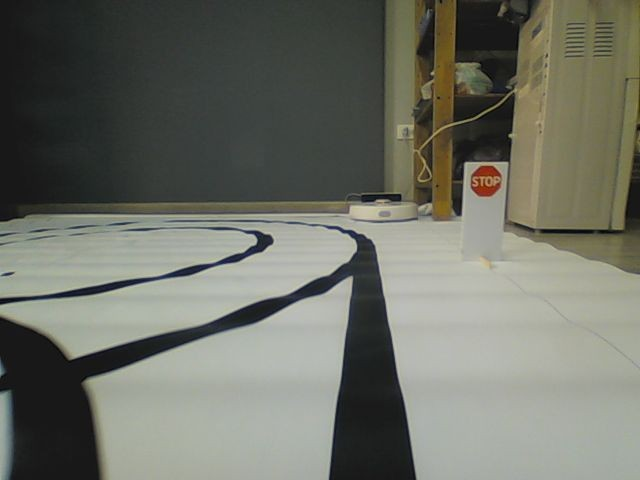Stop: (470, 165, 502, 198)
